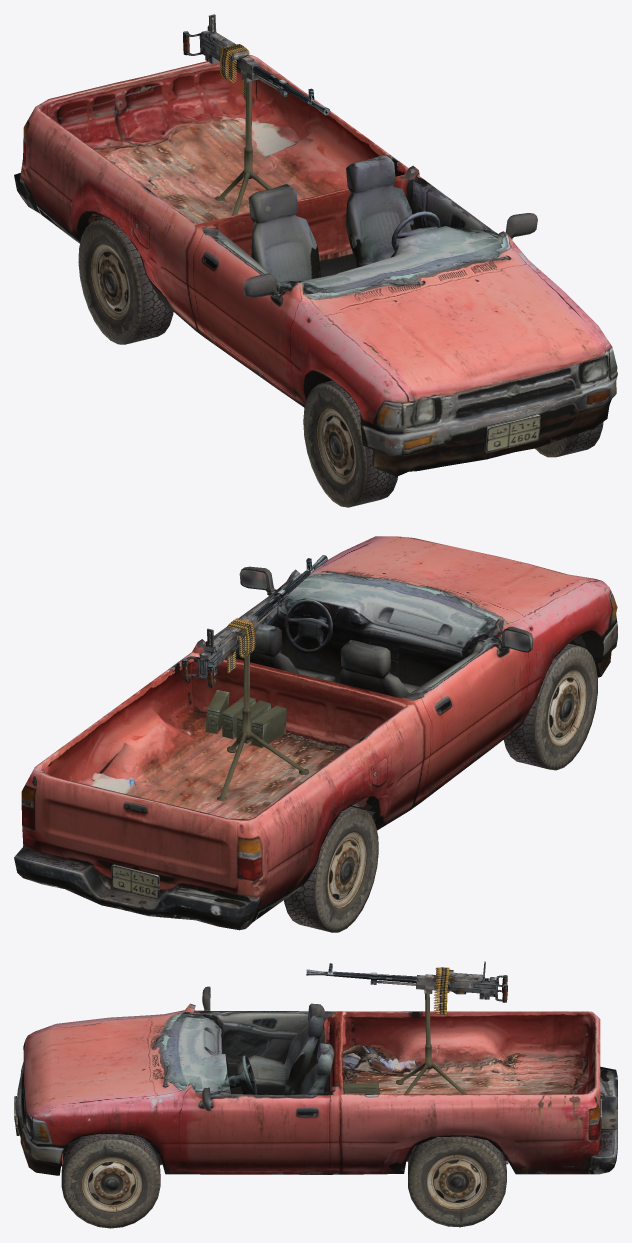
The model's file is combat_technical.glb.
3 views of the same model, one above another, from view 1: azimuth 30°, elevation 25°; view 2: azimuth 150°, elevation 25°; view 3: azimuth 270°, elevation 25° (orthographic). The views are drawn at different scales.
Visible parts, largest first — view 1: car, rear wheel.001, front wheel, machinegun, licence plate, mg stand, front wheel.001, mirror, ammo; view 2: car, rear wheel.001, front wheel, box, machinegun, mg stand, rear plate, ammo, mirror.001, mirror; view 3: car, front wheel.001, rear wheel, machinegun, mg stand, ammo, box.
Boxes of the visible parts, left/top/right/bottom form: car: left=14, top=55, right=617, bottom=476; rear wheel.001: left=78, top=218, right=173, bottom=344; front wheel: left=303, top=380, right=397, bottom=507; machinegun: left=183, top=14, right=330, bottom=115; licence plate: left=484, top=413, right=540, bottom=452; mg stand: left=215, top=81, right=271, bottom=215; front wheel.001: left=535, top=422, right=603, bottom=457; mirror: left=244, top=273, right=280, bottom=298; ammo: left=220, top=44, right=250, bottom=96; car: left=14, top=536, right=617, bottom=930; rear wheel.001: left=284, top=806, right=378, bottom=932; front wheel: left=504, top=643, right=597, bottom=770; box: left=205, top=690, right=286, bottom=747; machinegun: left=182, top=555, right=327, bottom=687; mg stand: left=217, top=651, right=308, bottom=800; rear plate: left=111, top=864, right=159, bottom=899; ammo: left=227, top=618, right=255, bottom=673; mirror.001: left=239, top=566, right=276, bottom=595; mirror: left=498, top=626, right=532, bottom=652; car: left=15, top=1003, right=617, bottom=1175; front wheel.001: left=61, top=1134, right=160, bottom=1228; rear wheel: left=408, top=1136, right=506, bottom=1227; machinegun: left=306, top=961, right=507, bottom=1002; mg stand: left=396, top=993, right=466, bottom=1094; ammo: left=434, top=967, right=449, bottom=1014; box: left=344, top=1083, right=380, bottom=1094.
Size of the model in its own units: 2.51 by 2.33 by 5.78.
Materials: 2 (2 with a texture image).
